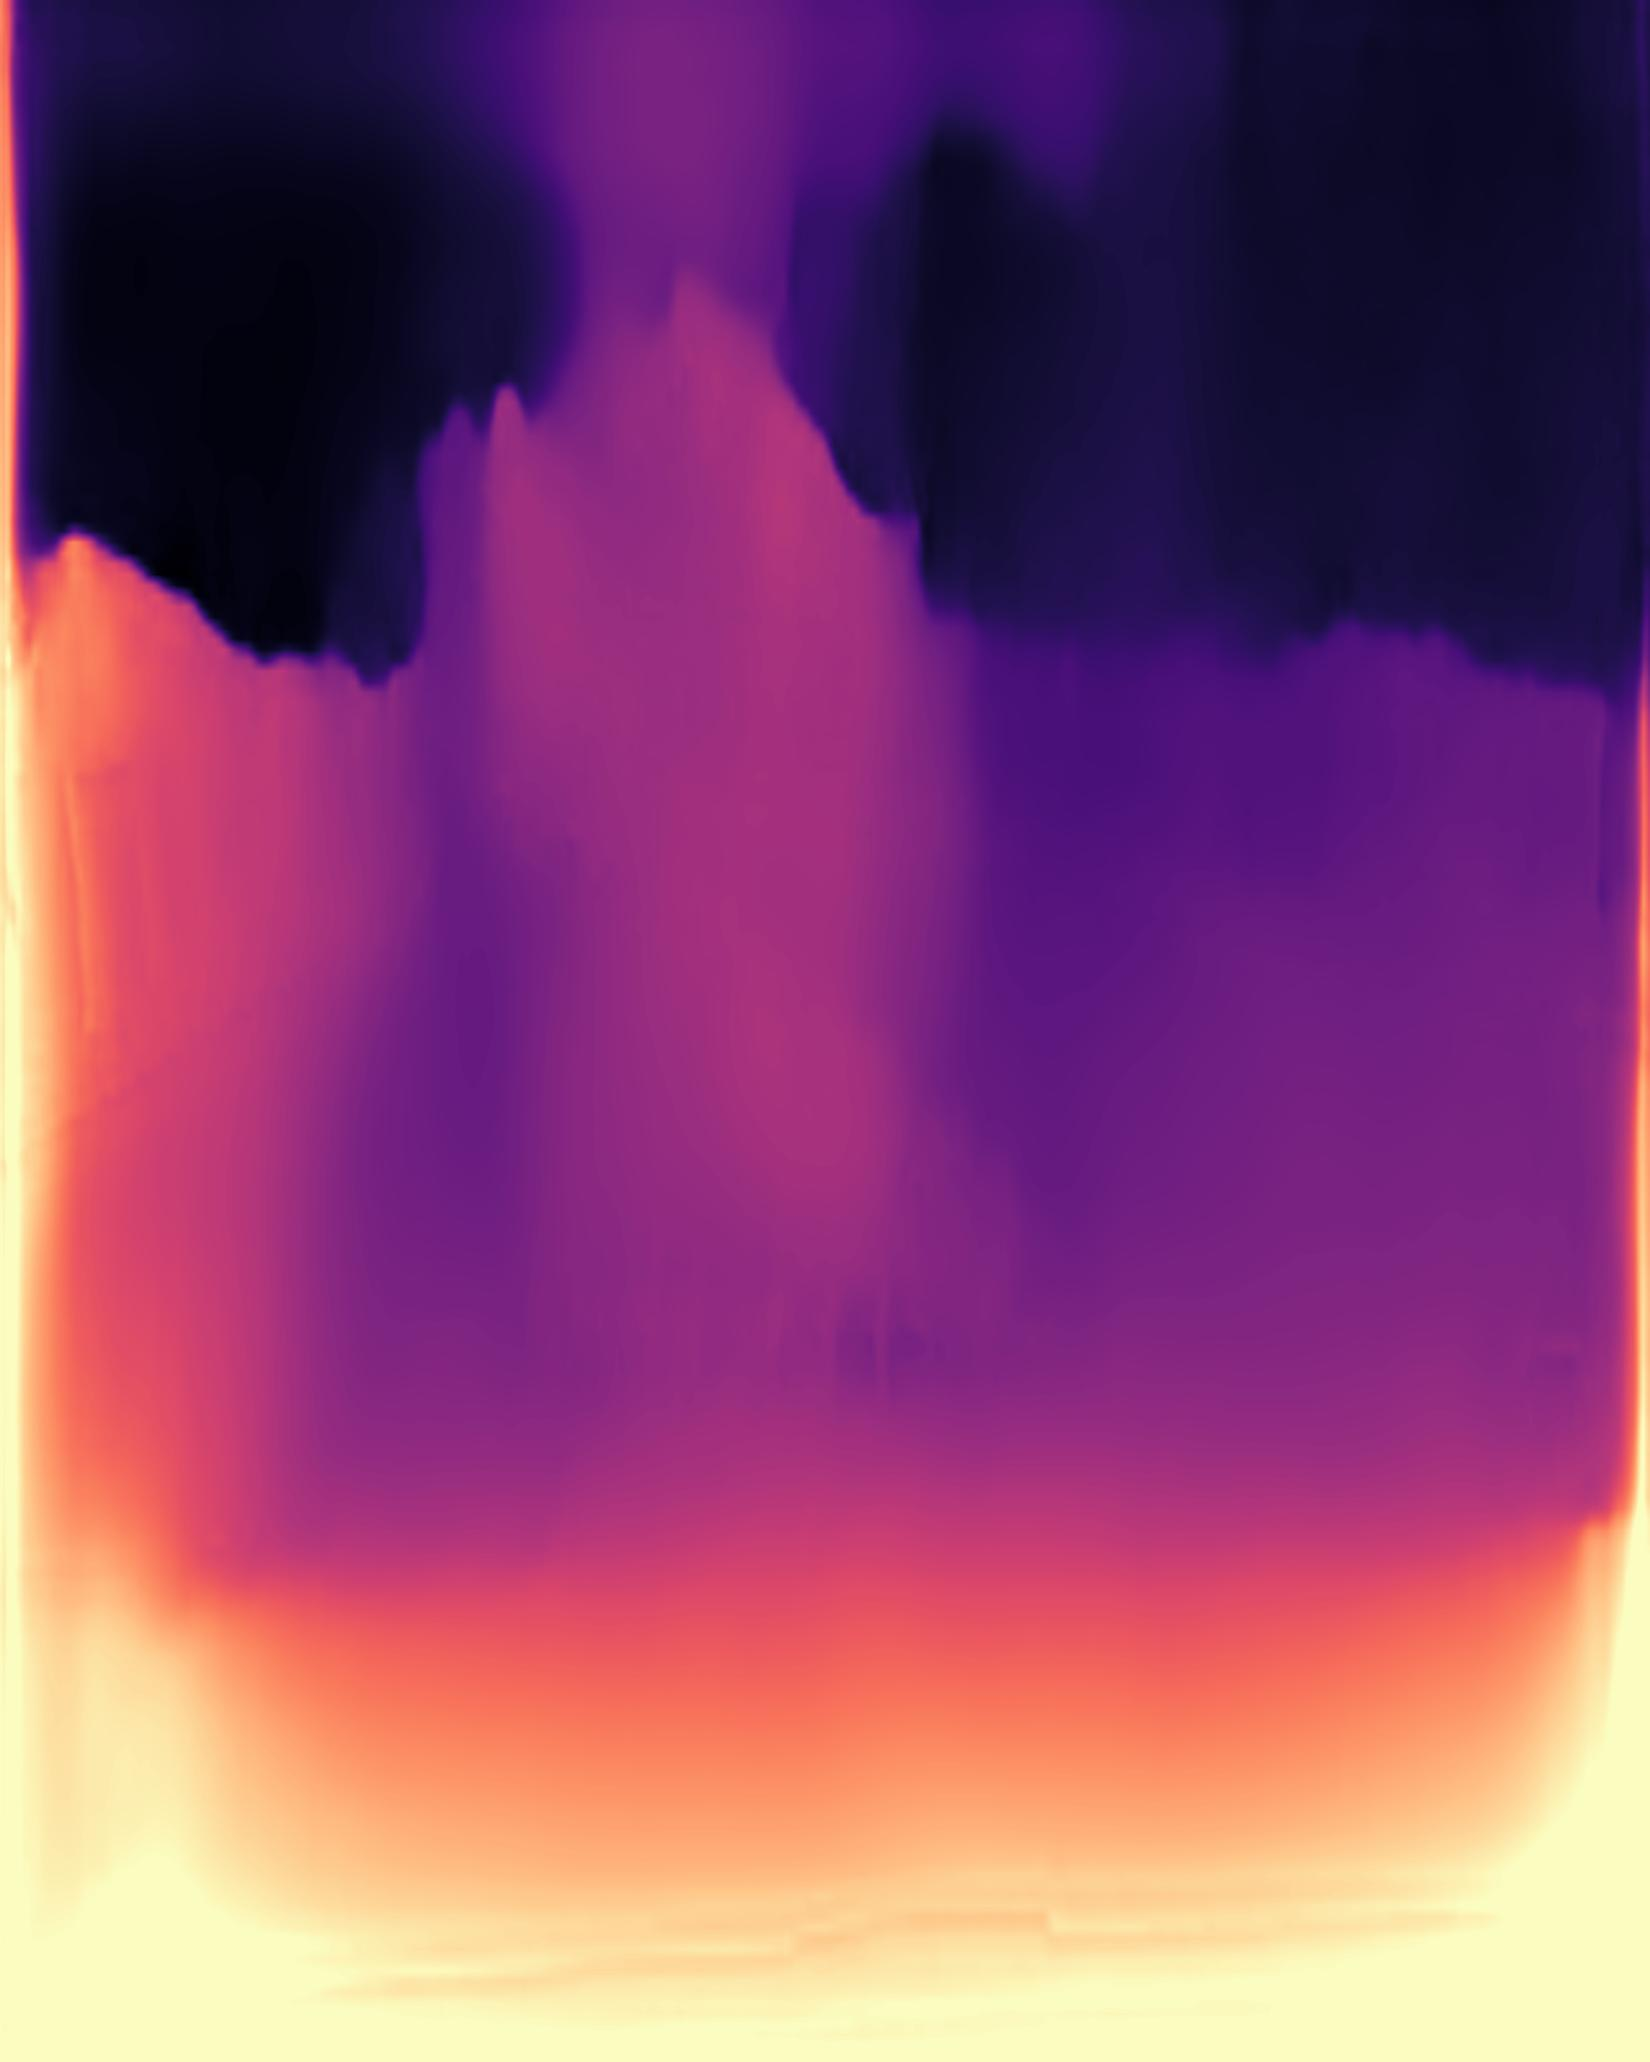painting: (8, 591, 1650, 1570)
